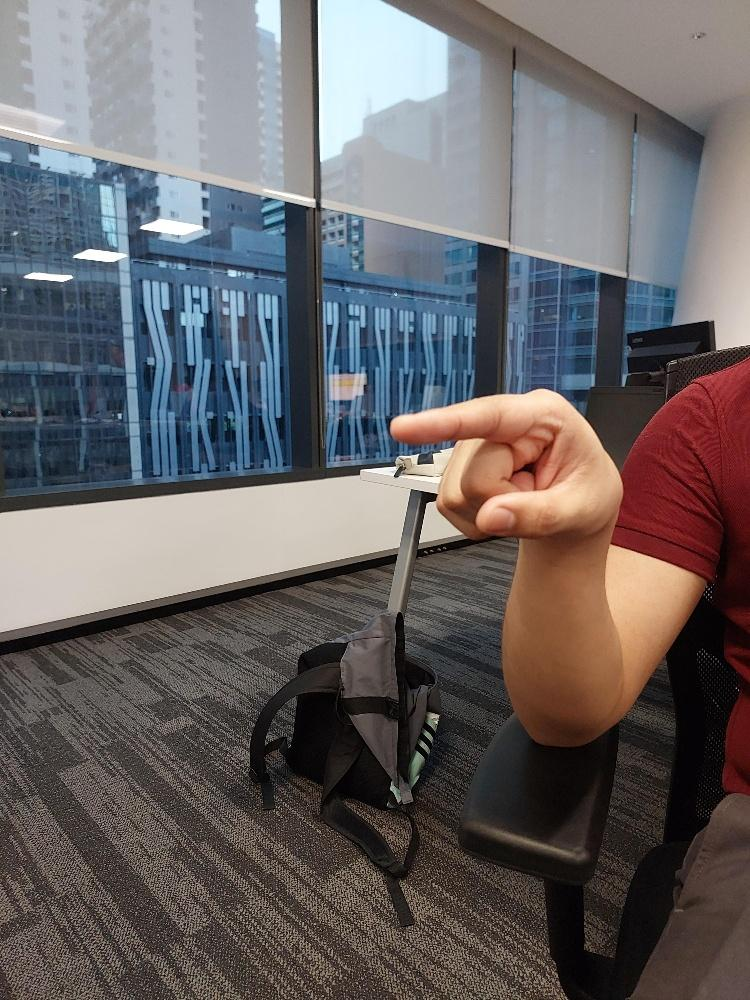z: (385, 383, 626, 544)
